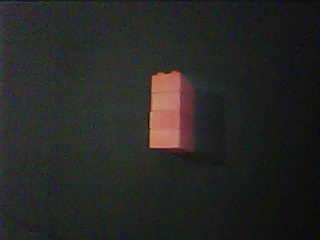lego: (147, 69, 195, 153)
